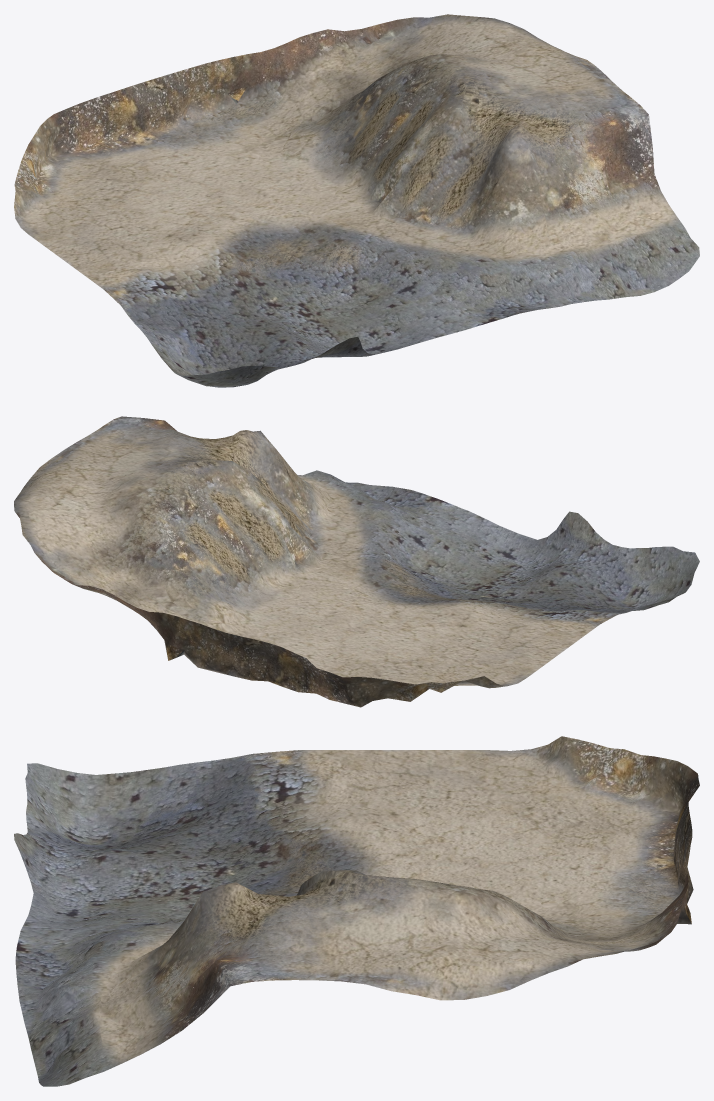
File: bujama.glb
The picture shows the model from 3 angles, top to bottom: view 1: azimuth 30°, elevation 25°; view 2: azimuth 150°, elevation 25°; view 3: azimuth 270°, elevation 25°; orthographic projection. The views are drawn at different scales.
Visible parts, largest first — view 1: Plane; view 2: Plane; view 3: Plane.
Part boxes in pixels (left/top/right/bottom): Plane: left=14, top=14, right=699, bottom=387; Plane: left=14, top=416, right=699, bottom=707; Plane: left=14, top=736, right=699, bottom=1086.
Bounding box in the file's own units: 20.85 × 5.2 × 18.07.
1 material, 1 textured.
